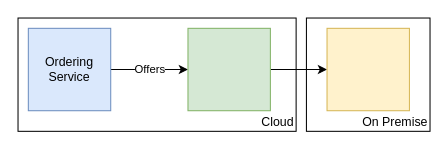
This 448x149 diagram has some shape labels left out. Here are the shapes that lost their labels. From the top down, the centre of each, then its label:
point (228, 69): Promotions and Discounts Service
point (367, 69): 3rd Party Marketing Service
